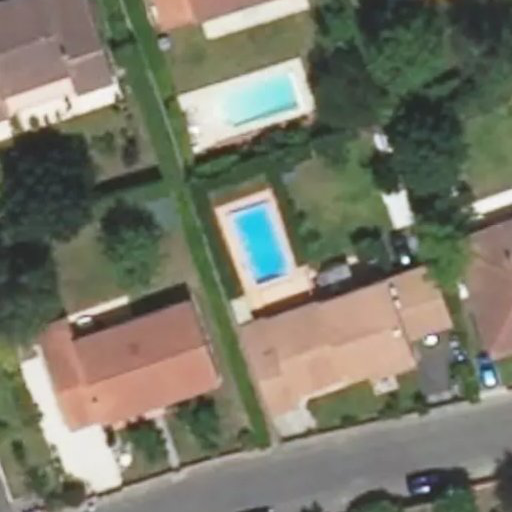pool: (223, 211, 288, 271)
